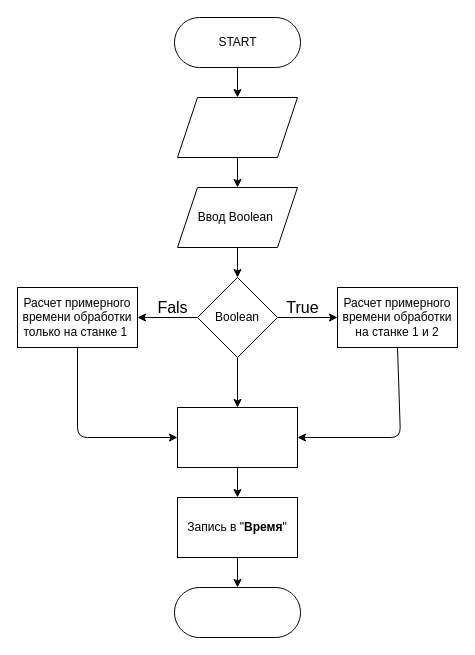
Image size: 475x655. Some labels were removed from this diagram. The box of each missing label's shape, as (x1, y1, x2, y2) in pixels:
END: (174, 586, 300, 638)
Ввод данных кластера " Объекты 2 ": (176, 96, 298, 158)
Пересчет времени в явное значение: (176, 406, 298, 468)
